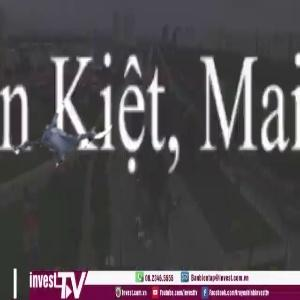drone: (22, 89, 114, 181)
